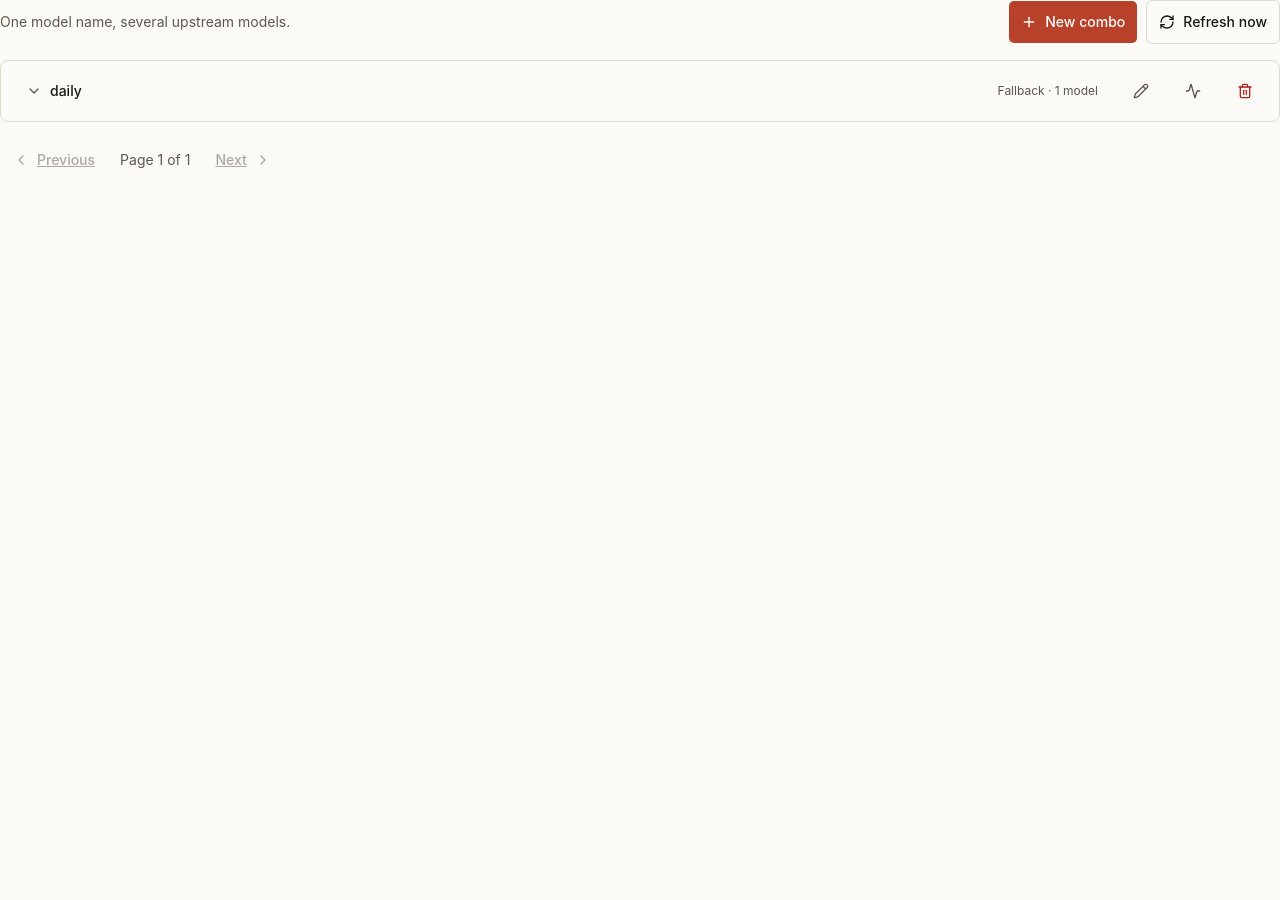
Test: two dialogs on one screen › names each dialog by its own title
Check: the button named "Test" is shown, box [1171,69,1215,113]
Click the button named "Delete".
click(1245, 91)  # box [1223,69,1267,113]
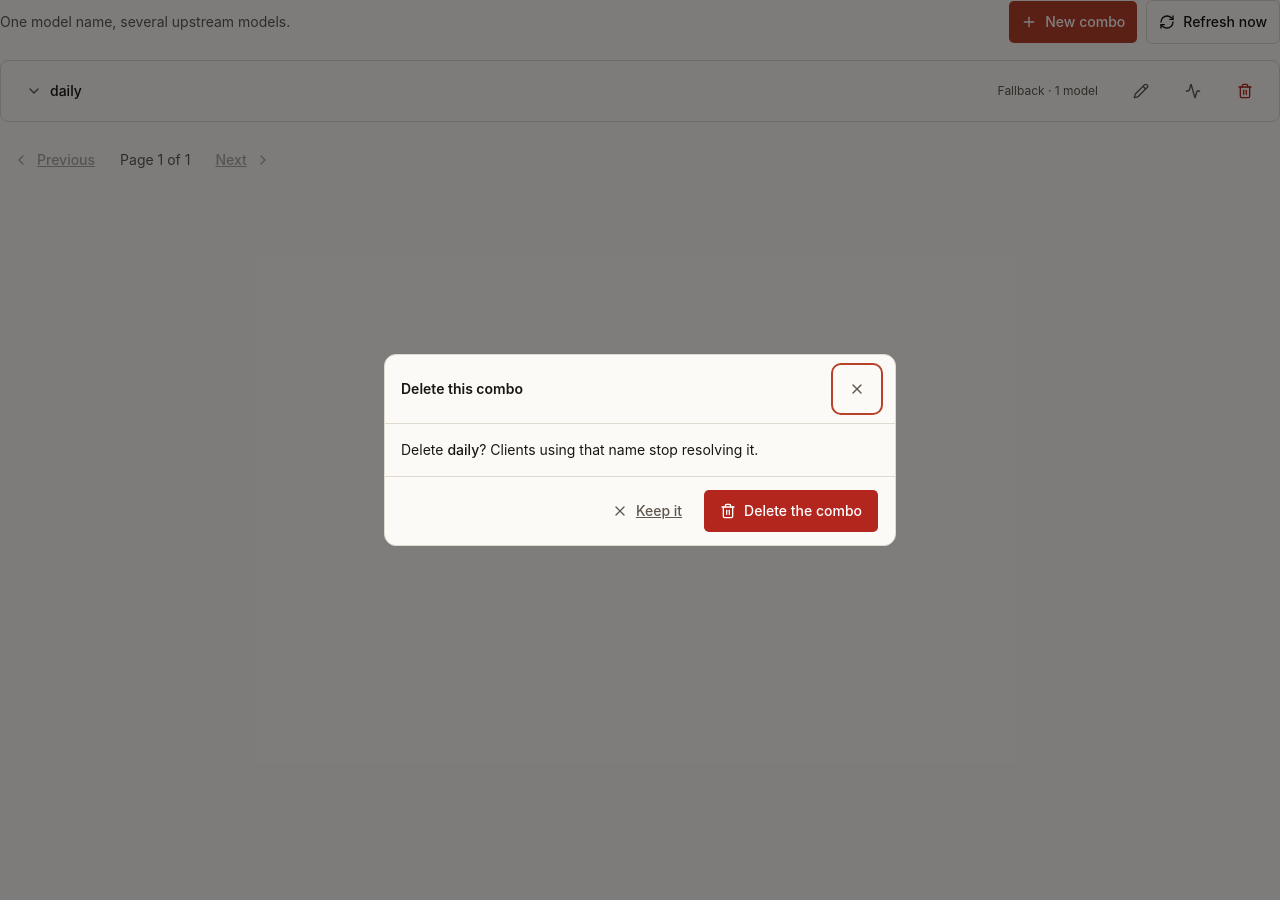
Check: the heading "Delete this combo" is shown, box [401,380,523,397]
